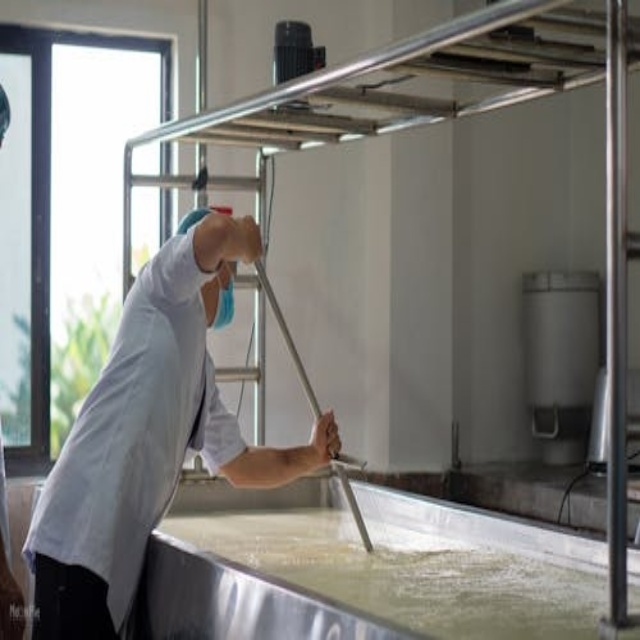Mascara: (209, 261, 235, 330)
Sin_guantes: (309, 408, 342, 465)
